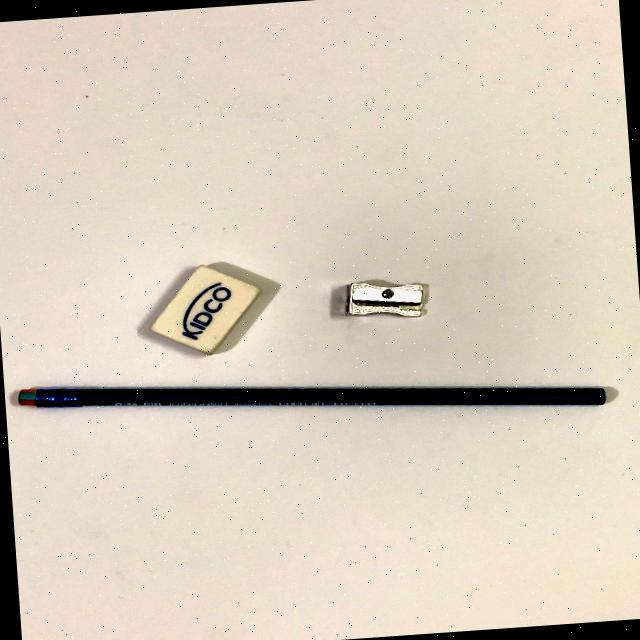Eraser: (114, 249, 284, 369)
Pencil: (12, 373, 622, 424)
Sharpner: (318, 266, 445, 326)
